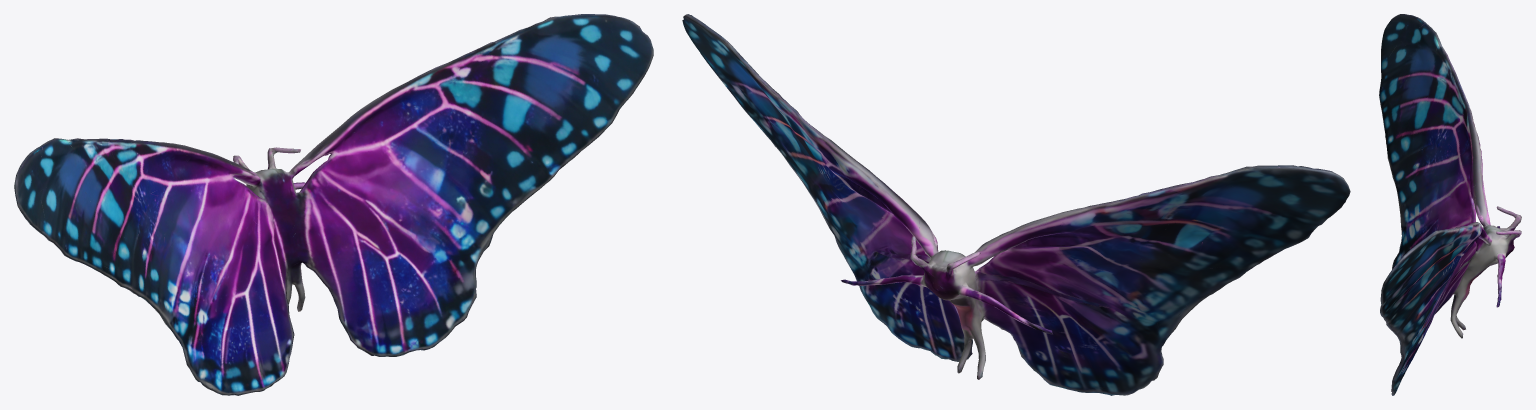
The model's file is Meshy_AI_Neon_Wings_0226140232_texture.glb.
The picture shows the model from 3 angles, left to right: view 1: azimuth 30°, elevation 25°; view 2: azimuth 150°, elevation 25°; view 3: azimuth 270°, elevation 25°; orthographic projection. The views are drawn at different scales.
Size of the model in its own units: 2.01 by 0.8478 by 0.4808.
1 material, 1 textured.
